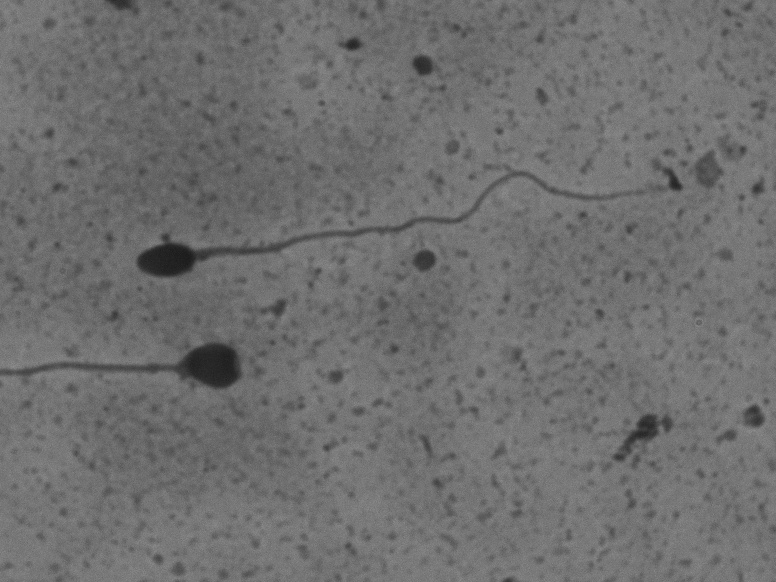Abnormal: (25, 315, 271, 447)
Normal: (109, 139, 677, 290)
